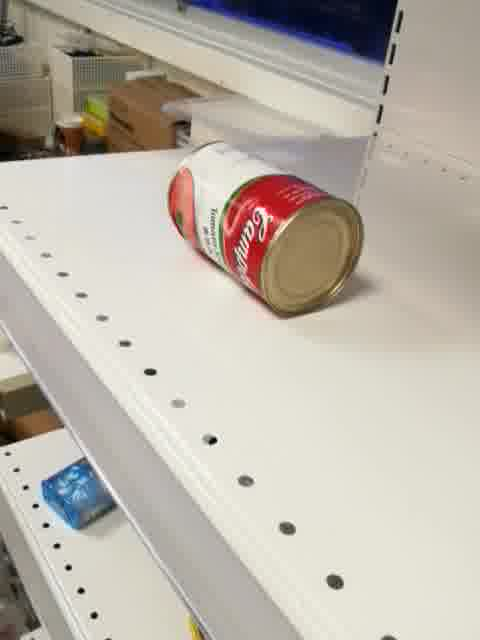tomatosoup: (164, 139, 366, 321)
